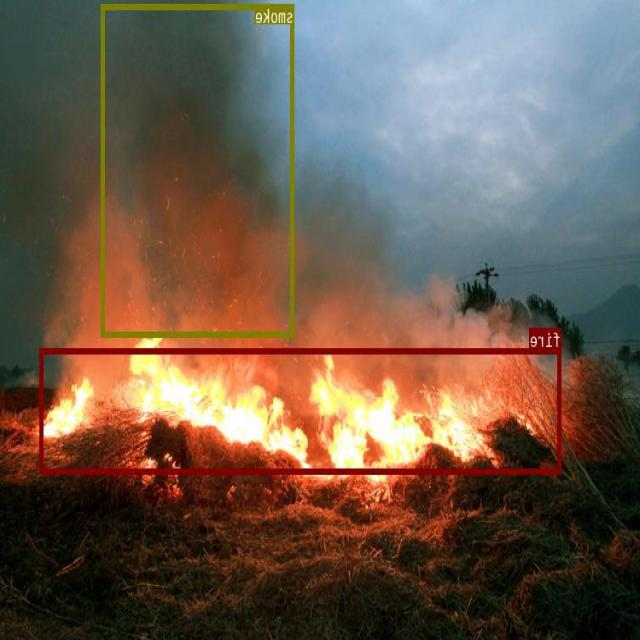fire: (40, 347, 562, 473)
smoke: (102, 4, 295, 336)
